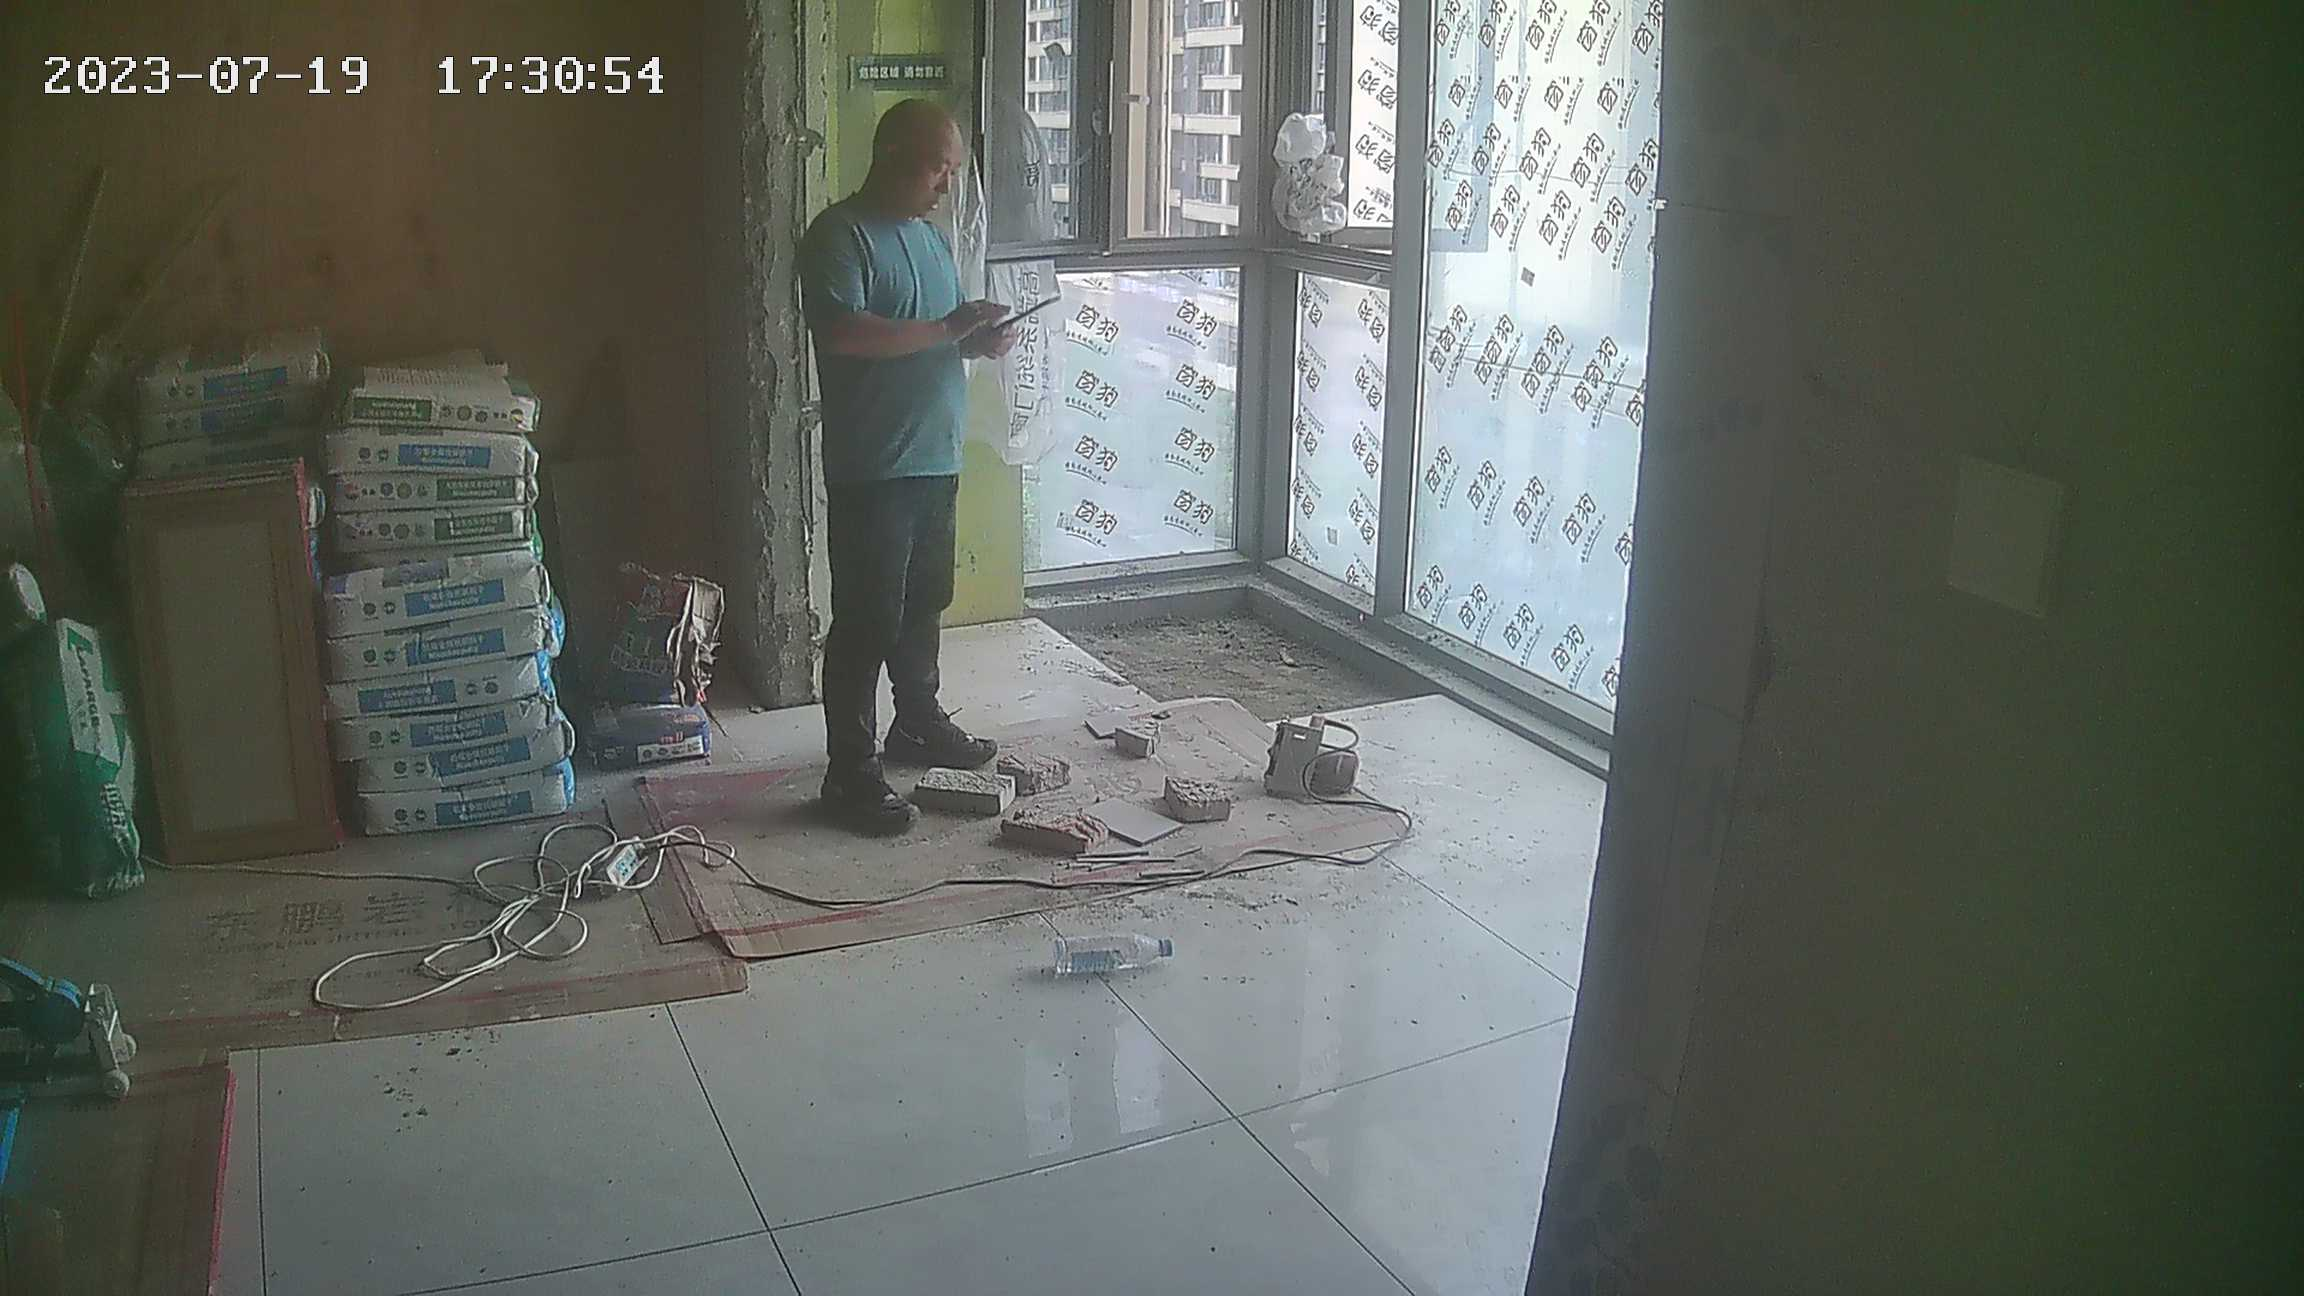people: (797, 95, 1007, 841)
window: (806, 7, 1658, 751)
